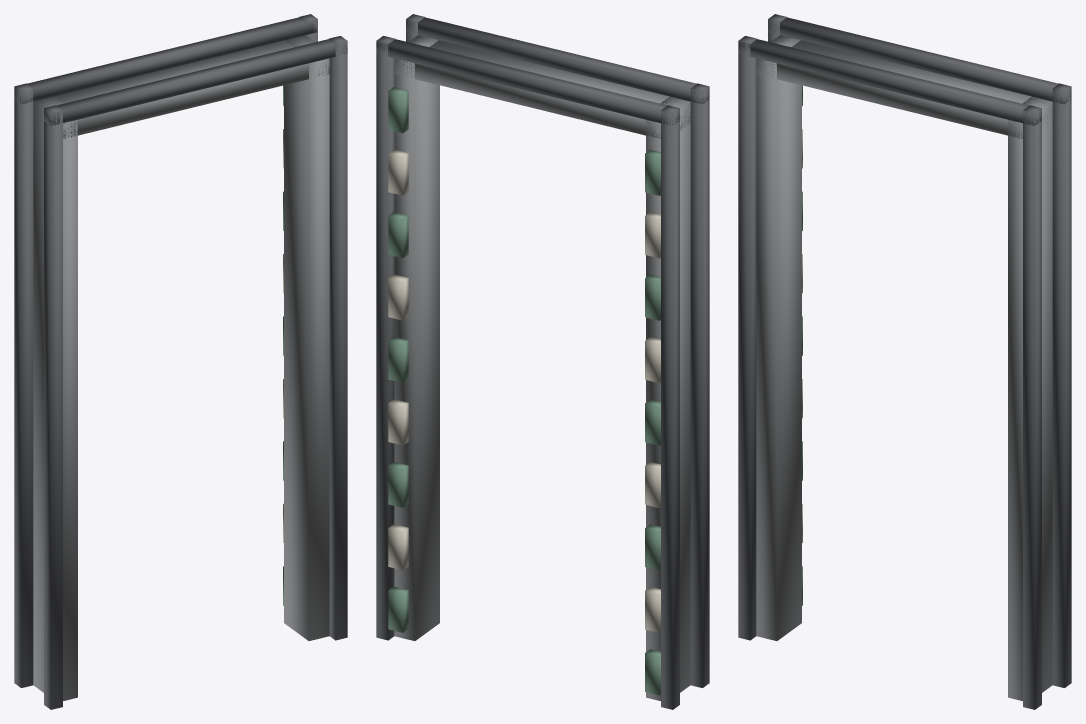
File: doorway_tile_return_w86_h200_d16.glb
3 views of the same model, side by side, from view 1: azimuth 30°, elevation 25°; view 2: azimuth 150°, elevation 25°; view 3: azimuth 330°, elevation 25° (orthographic).
Visible parts, largest first — view 1: world; view 2: world; view 3: world.
Part boxes in pixels (x1,y1,x2,y2): world: (14,14,347,709); world: (376,14,709,709); world: (738,14,1071,709).
Size of the model in its own units: 1.1 by 2.12 by 0.2407.
